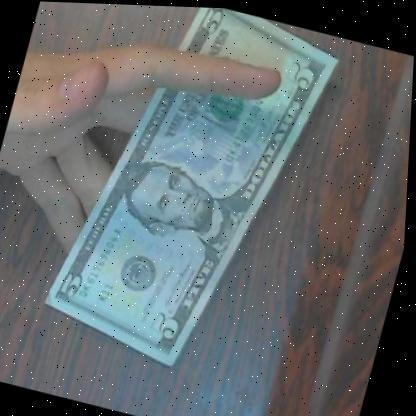five-front: (35, 1, 338, 386)
